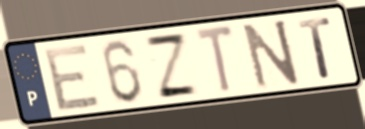6: (100, 36, 146, 107)
E: (42, 41, 104, 114)
N: (240, 16, 304, 92)
T: (193, 22, 237, 97), (295, 14, 334, 80)
Z: (141, 32, 203, 101)
